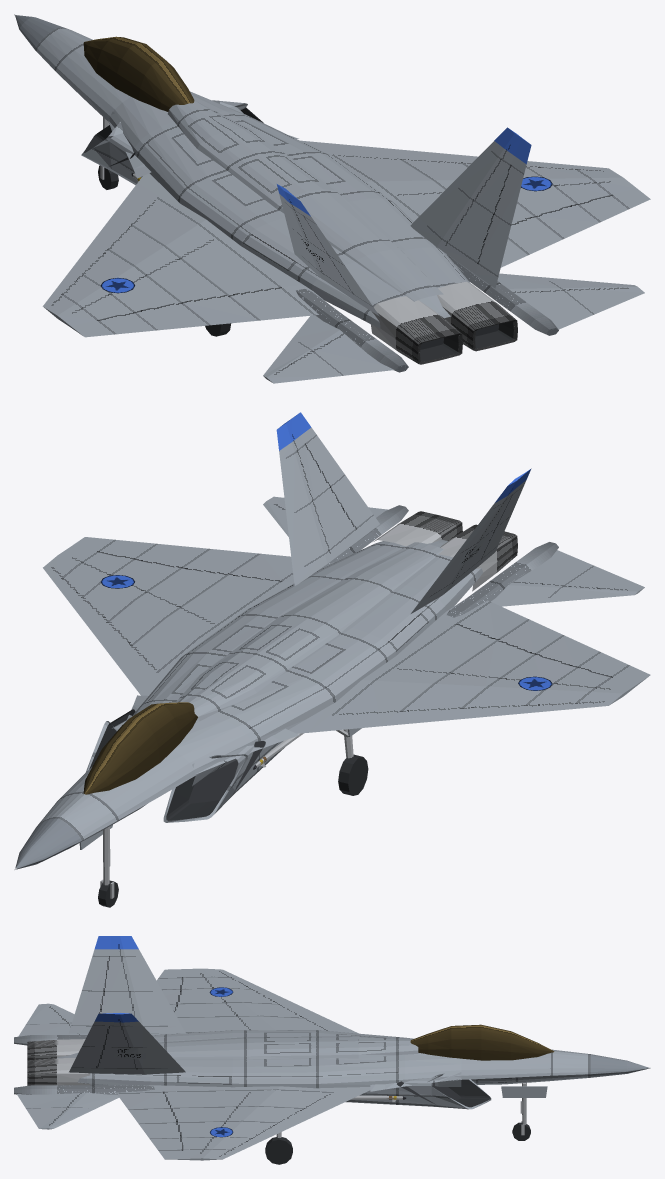
The picture shows the model from 3 angles, top to bottom: view 1: azimuth 30°, elevation 25°; view 2: azimuth 150°, elevation 25°; view 3: azimuth 270°, elevation 25°; orthographic projection. The views are drawn at different scales.
Visible parts, largest first — view 1: airframe, canopy, stab_l, stab_r, flap_l, aileron_l, rudder_r, aileron_r, flap_r, rudder_l; view 2: airframe, canopy, stab_l, flap_l, flap_r, rudder_r, aileron_l, aileron_r, gear_main_l, gear_nose; view 3: airframe, canopy, stab_r, rudder_l, flap_r, stab_l, rudder_r, aileron_r, gear_main_r, door_nose, aileron_l, gear_nose.
Boxes of the visible parts, box(x1,y1,x2,y2) form: airframe: box(14, 14, 650, 372); canopy: box(83, 36, 194, 111); stab_l: box(263, 315, 393, 383); stab_r: box(497, 273, 644, 329); flap_l: box(183, 287, 316, 324); aileron_l: box(100, 302, 211, 333); rudder_r: box(478, 165, 523, 276); aileron_r: box(533, 195, 627, 239); flap_r: box(500, 216, 562, 267); rudder_l: box(304, 216, 372, 306); airframe: box(14, 412, 650, 869); canopy: box(83, 702, 197, 794); stab_l: box(491, 550, 644, 606); flap_l: box(454, 601, 562, 653); flap_r: box(183, 549, 293, 581); rudder_r: box(305, 435, 373, 527); aileron_l: box(533, 634, 627, 676); aileron_r: box(100, 540, 211, 568); gear_main_l: box(336, 729, 368, 795); gear_nose: box(98, 826, 118, 907); airframe: box(14, 936, 650, 1160); canopy: box(410, 1024, 554, 1060); stab_r: box(17, 1092, 118, 1129); rudder_l: box(71, 956, 109, 1025); flap_r: box(116, 1091, 178, 1123); stab_l: box(18, 1003, 87, 1036); rudder_r: box(71, 1025, 109, 1068); aileron_r: box(138, 1122, 183, 1149); gear_main_r: box(265, 1132, 292, 1164); door_nose: box(501, 1086, 547, 1097); aileron_l: box(156, 978, 183, 1004); gear_nose: box(512, 1083, 530, 1140).
Size of the model in its own units: 13.56 by 5.52 by 19.22.
Materials: 6 (6 with a texture image).
